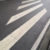others: (2, 7, 50, 37)
